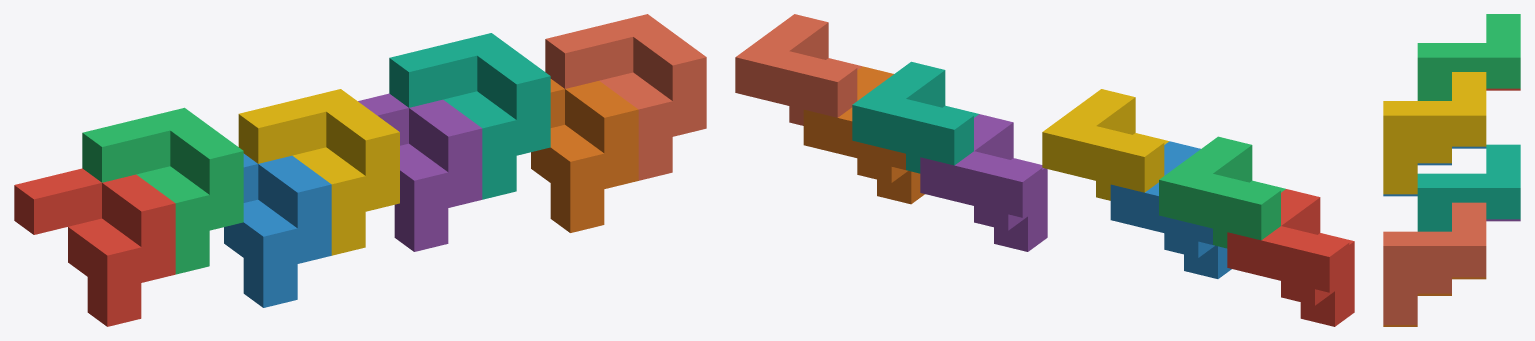
Rendered from tiling.obj.
The picture shows the model from 3 angles, left to right: view 1: azimuth 30°, elevation 25°; view 2: azimuth 150°, elevation 25°; view 3: azimuth 270°, elevation 25°; orthographic projection. The views are drawn at different scales.
Visible parts, largest first — view 1: copy_1_domain_1, copy_1_domain_3, copy_1_domain_7, copy_1_domain_4, copy_1_domain_8, copy_1_domain_2, copy_1_domain_6, copy_1_domain_5; view 2: copy_1_domain_1, copy_1_domain_5, copy_1_domain_4, copy_1_domain_8, copy_1_domain_3, copy_1_domain_7, copy_1_domain_6, copy_1_domain_2; view 3: copy_1_domain_8, copy_1_domain_4, copy_1_domain_7, copy_1_domain_3, copy_1_domain_2, copy_1_domain_6.
Boxes of the visible parts, box(x1,y1,x2,y2) form: copy_1_domain_1: box(14, 168, 175, 326); copy_1_domain_3: box(82, 107, 243, 274); copy_1_domain_7: box(389, 33, 550, 199); copy_1_domain_4: box(238, 89, 399, 255); copy_1_domain_8: box(545, 14, 706, 180); copy_1_domain_2: box(224, 153, 331, 307); copy_1_domain_6: box(531, 79, 638, 232); copy_1_domain_5: box(358, 93, 482, 251); copy_1_domain_1: box(1227, 189, 1354, 326); copy_1_domain_5: box(920, 114, 1047, 251); copy_1_domain_4: box(1042, 89, 1169, 200); copy_1_domain_8: box(735, 14, 861, 125); copy_1_domain_3: box(1159, 136, 1285, 248); copy_1_domain_7: box(852, 61, 978, 173); copy_1_domain_6: box(803, 66, 924, 204); copy_1_domain_2: box(1110, 141, 1231, 278); copy_1_domain_8: box(1383, 202, 1486, 324); copy_1_domain_4: box(1383, 72, 1486, 194); copy_1_domain_7: box(1417, 144, 1520, 231); copy_1_domain_3: box(1417, 14, 1520, 100); copy_1_domain_2: box(1383, 146, 1486, 196); copy_1_domain_6: box(1383, 277, 1486, 326).
Bounding box in the file's own units: 18 × 4 × 4.
